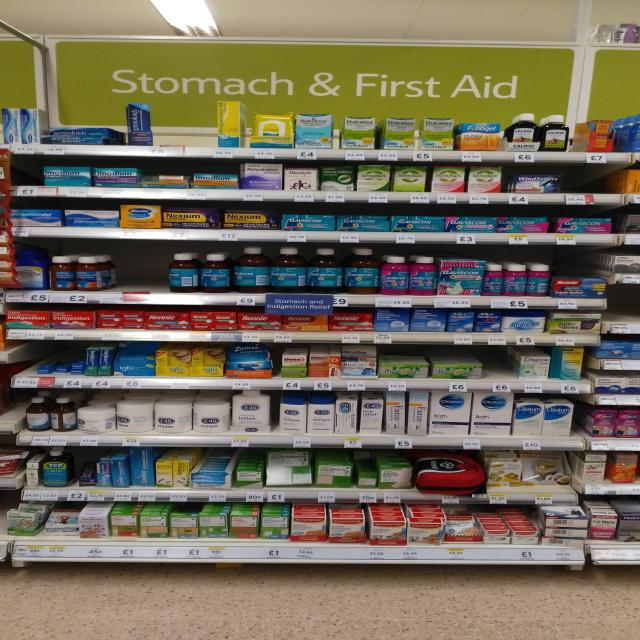void: (164, 98, 207, 146), (116, 242, 159, 288), (568, 167, 622, 189)
